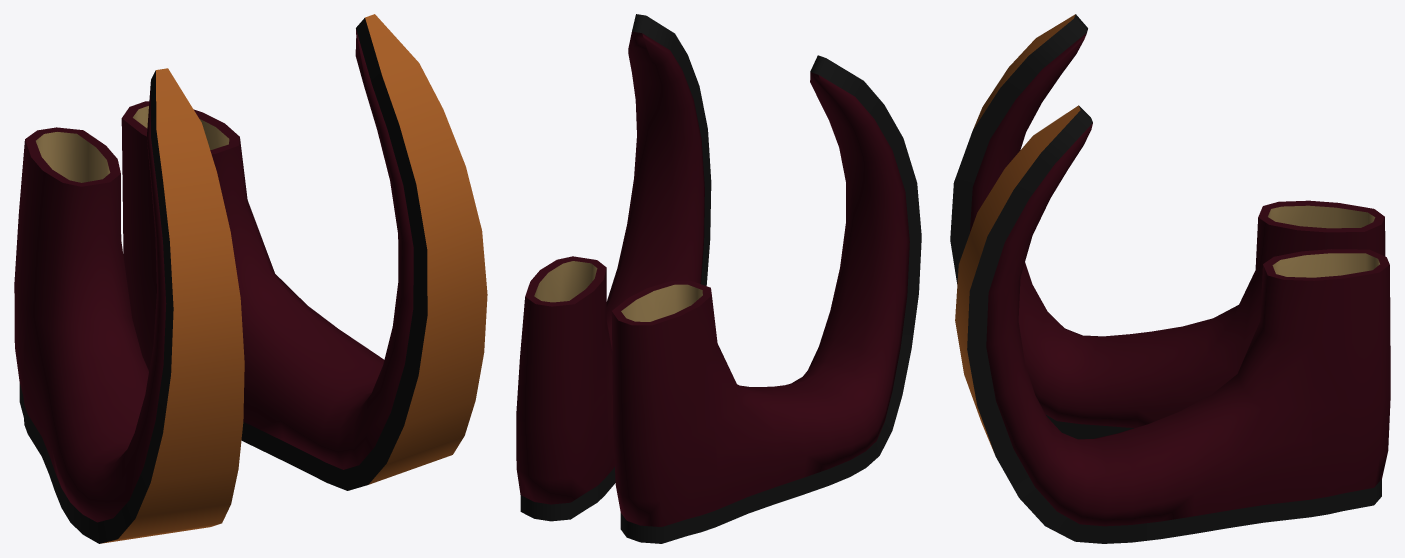
The model's file is Tyaaaagy.fbx.
3 views of the same model, side by side, from view 1: azimuth 30°, elevation 25°; view 2: azimuth 150°, elevation 25°; view 3: azimuth 270°, elevation 25° (orthographic). The views are drawn at different scales.
Parts seen in each view (by area): view 1: Shoe.001|ShoeBase|Dupli|, Shoe|ShoeBase|Dupli|, Shoe.001|Sole|Dupli|1, Shoe|Sole|Dupli|1; view 2: Shoe.001|ShoeBase|Dupli|, Shoe|ShoeBase|Dupli|, Shoe.001|Sole|Dupli|1, Shoe|Sole|Dupli|1; view 3: Shoe|ShoeBase|Dupli|, Shoe.001|ShoeBase|Dupli|, Shoe|Sole|Dupli|1, Shoe.001|Sole|Dupli|1.
Part boxes in pixels (x1,y1,x2,y2): Shoe.001|ShoeBase|Dupli|: (14, 82, 166, 522); Shoe|ShoeBase|Dupli|: (121, 29, 413, 469); Shoe.001|Sole|Dupli|1: (19, 68, 244, 543); Shoe|Sole|Dupli|1: (241, 14, 487, 490); Shoe.001|ShoeBase|Dupli|: (611, 72, 909, 526); Shoe|ShoeBase|Dupli|: (516, 31, 704, 504); Shoe.001|Sole|Dupli|1: (620, 55, 921, 543); Shoe|Sole|Dupli|1: (520, 14, 711, 521); Shoe|ShoeBase|Dupli|: (986, 123, 1390, 526); Shoe.001|ShoeBase|Dupli|: (969, 29, 1385, 428); Shoe|Sole|Dupli|1: (955, 105, 1381, 543); Shoe.001|Sole|Dupli|1: (950, 14, 1133, 439).
Bounding box in the file's own units: 738 × 925 × 905.
